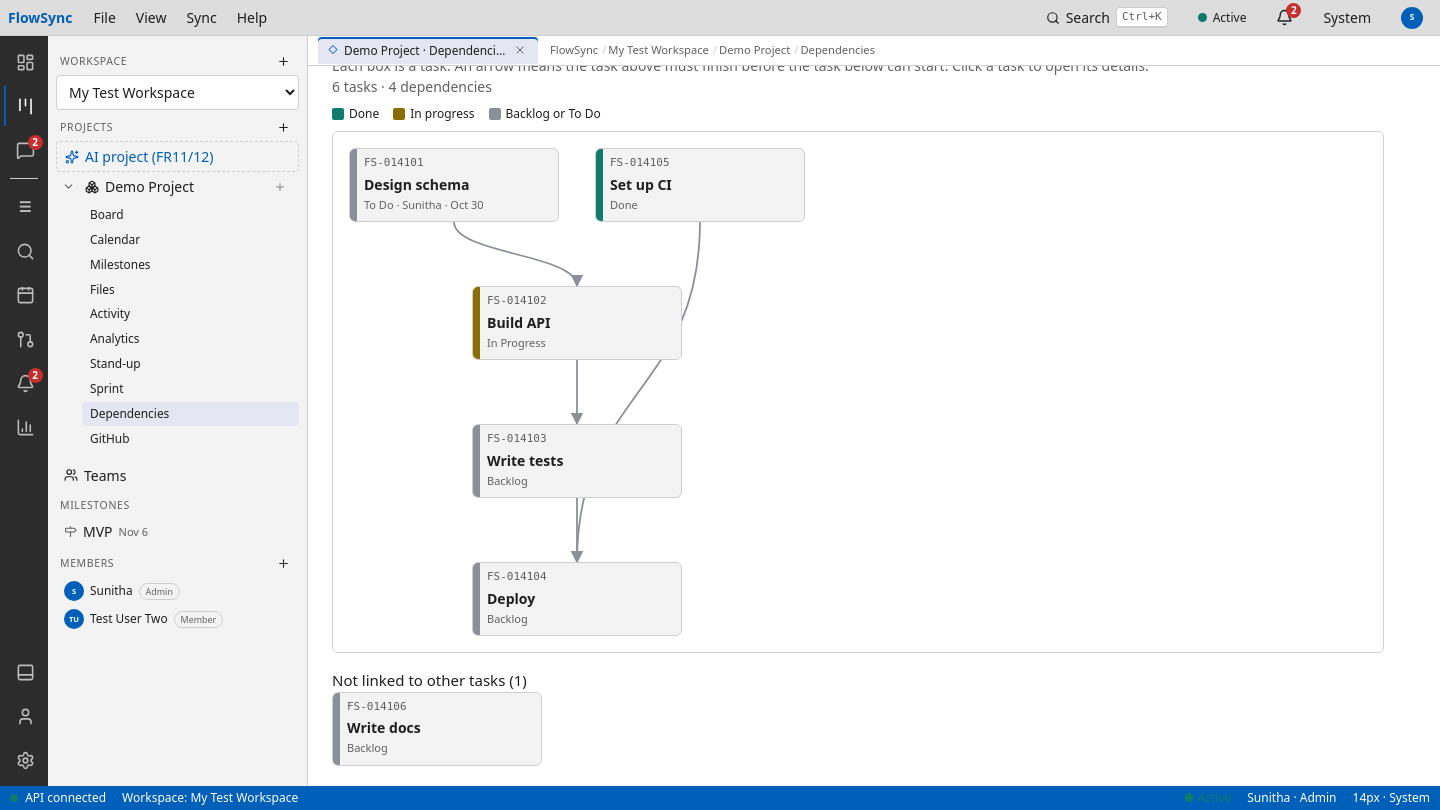
Test: the dependency graph › a task listed apart opens its details too
(page scrolled)
Click the button "FS-014106 Write docs Backlog".
click(437, 729)  # box [332,692,542,766]
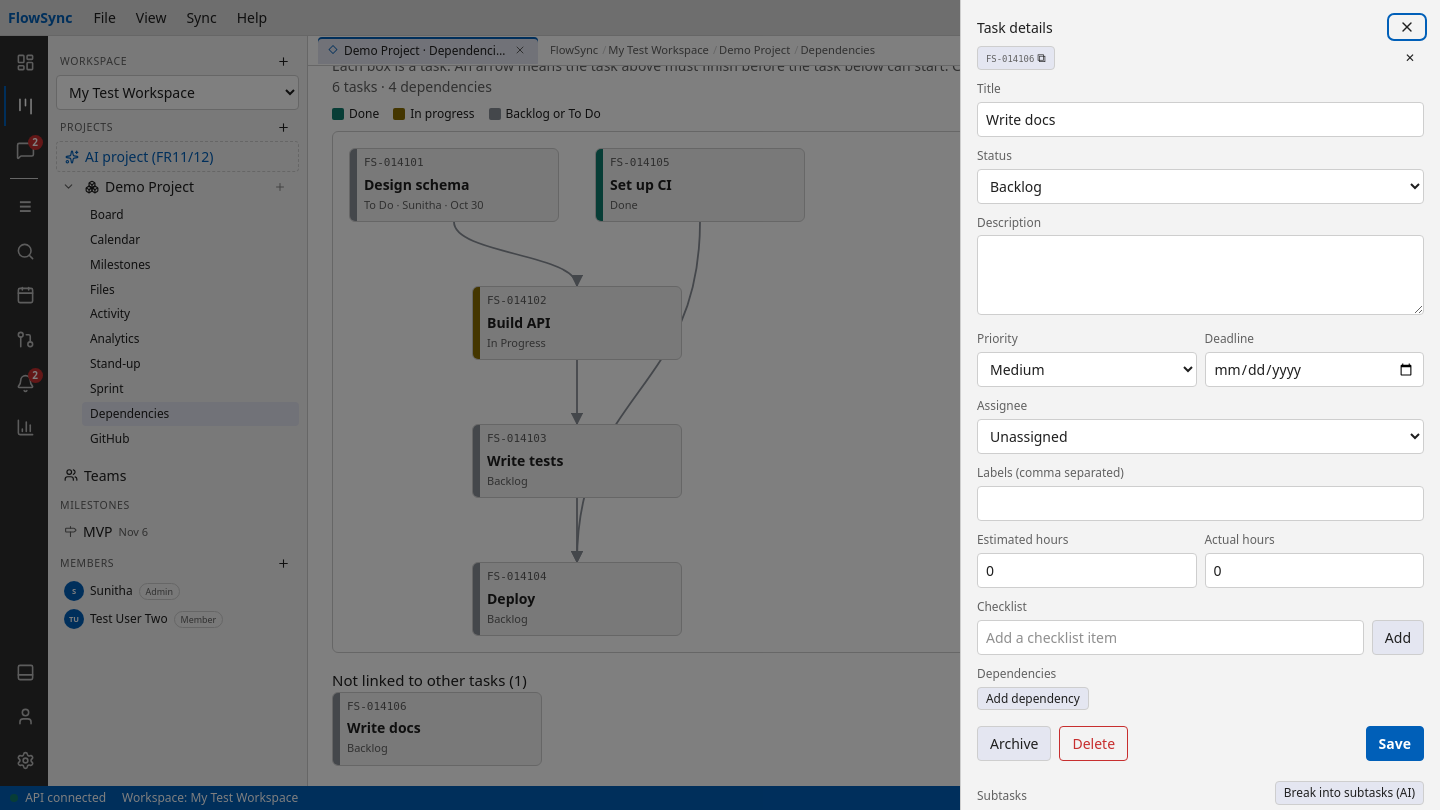
Result: the field showing "Write docs" is shown at [977,102,1424,137]
